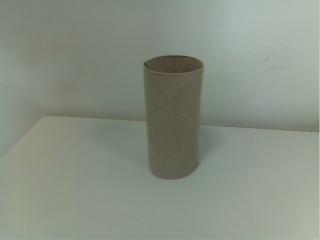rollo papel: (140, 52, 206, 183)
